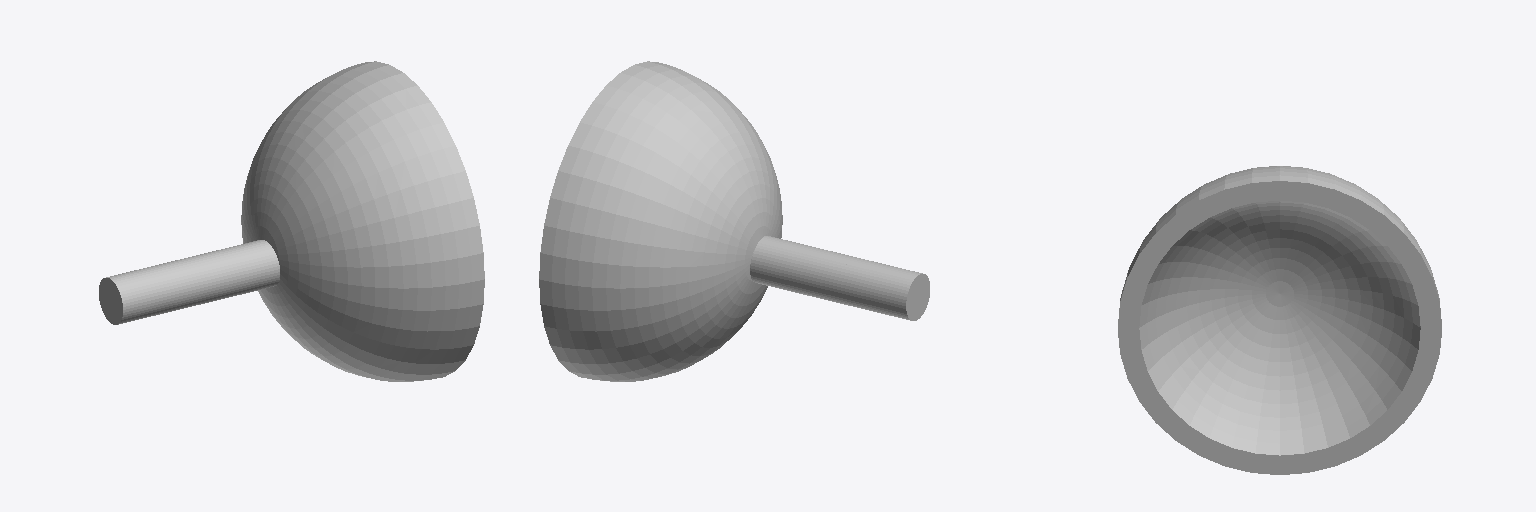
The model's file is plunger.obj.
3 renders of one model, left to right at view 1: azimuth 30°, elevation 25°; view 2: azimuth 150°, elevation 25°; view 3: azimuth 270°, elevation 25°, orthographic.
Parts seen in each view (by area): view 1: obj_0; view 2: obj_0; view 3: obj_0.
Boxes of the visible parts, x1,y1,x2,y2 form: obj_0: [99, 61, 484, 381]; obj_0: [539, 61, 929, 381]; obj_0: [1118, 166, 1441, 474].
Size of the model in its own units: 21 by 20 by 20.